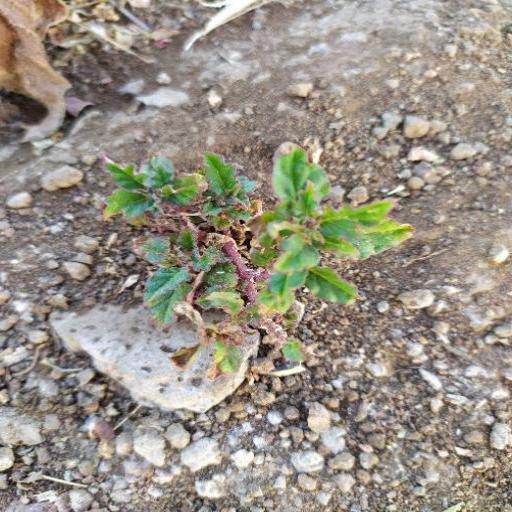weed: (101, 151, 423, 378)
